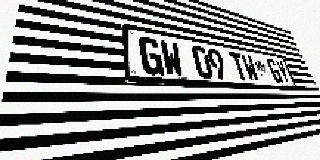0: (191, 45, 214, 79)
9: (206, 48, 228, 80)
G: (138, 36, 165, 76), (266, 58, 284, 83)
T: (228, 52, 249, 81)
W: (159, 39, 185, 77), (240, 54, 260, 82)
Y: (274, 60, 292, 84)
